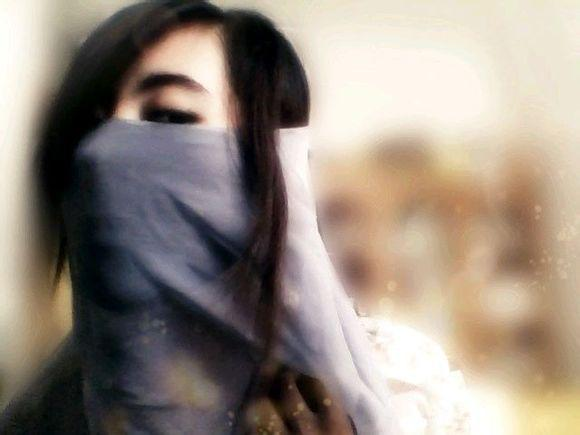OK: (59, 74, 269, 284)
